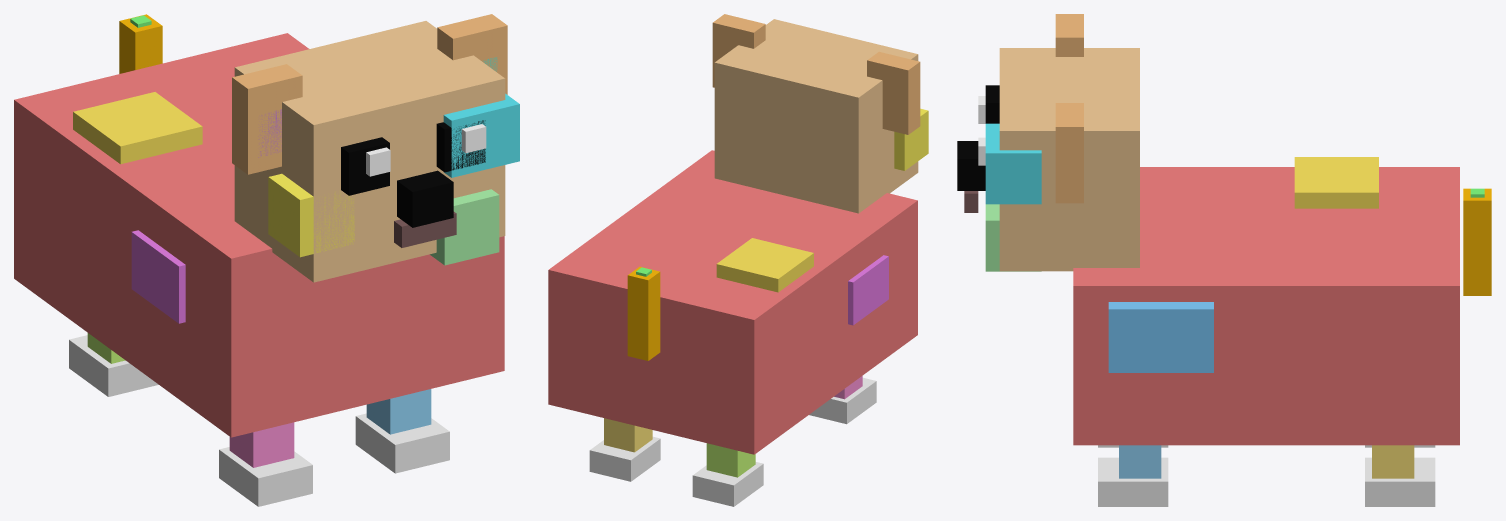
Rendered from pixel_colorful_dog.glb.
3 views of the same model, side by side, from view 1: azimuth 30°, elevation 25°; view 2: azimuth 150°, elevation 25°; view 3: azimuth 270°, elevation 25° (orthographic). The views are drawn at different scales.
Parts seen in each view (by area): view 1: body, head, body_patch2, ear_left, head_patch2, head_patch1, foot_fl, foot_fr, body_patch4, head_patch3, ear_right, nose (+9 smaller); view 2: body, head, body_patch2, ear_left, tail, foot_bl, foot_br, body_patch4, ear_right, foot_fr, head_patch2, leg_br (+1 smaller); view 3: body, head, body_patch1, body_patch2, head_patch1, tail, ear_right, foot_fl, foot_bl, leg_fl, leg_bl, nose (+2 smaller).
Boxes of the visible parts, x1=… form: body: x1=14, y1=33, x2=504, y2=437; head: x1=234, y1=21, x2=505, y2=282; body_patch2: x1=73, y1=92, x2=202, y2=164; ear_left: x1=232, y1=64, x2=302, y2=174; head_patch2: x1=268, y1=173, x2=354, y2=257; head_patch1: x1=443, y1=93, x2=519, y2=177; foot_fl: x1=355, y1=413, x2=449, y2=473; foot_fr: x1=219, y1=447, x2=312, y2=506; body_patch4: x1=131, y1=230, x2=185, y2=323; head_patch3: x1=430, y1=189, x2=499, y2=265; ear_right: x1=437, y1=14, x2=507, y2=94; nose: x1=397, y1=170, x2=453, y2=227; body: x1=548, y1=150, x2=917, y2=454; head: x1=714, y1=19, x2=918, y2=213; body_patch2: x1=716, y1=238, x2=813, y2=292; ear_left: x1=867, y1=51, x2=920, y2=134; tail: x1=627, y1=266, x2=660, y2=360; foot_bl: x1=589, y1=436, x2=660, y2=481; foot_br: x1=692, y1=462, x2=763, y2=506; body_patch4: x1=848, y1=255, x2=888, y2=325; ear_right: x1=712, y1=14, x2=765, y2=87; foot_fr: x1=809, y1=377, x2=876, y2=424; head_patch2: x1=894, y1=108, x2=928, y2=170; leg_br: x1=706, y1=443, x2=755, y2=477; body: x1=1073, y1=167, x2=1459, y2=445; head: x1=999, y1=48, x2=1139, y2=271; body_patch1: x1=1108, y1=302, x2=1213, y2=372; body_patch2: x1=1294, y1=157, x2=1378, y2=208; head_patch1: x1=985, y1=123, x2=1041, y2=204; tail: x1=1463, y1=188, x2=1491, y2=295; ear_right: x1=1055, y1=103, x2=1083, y2=203; foot_fl: x1=1098, y1=457, x2=1168, y2=506; foot_bl: x1=1365, y1=457, x2=1435, y2=506; leg_fl: x1=1119, y1=445, x2=1161, y2=478; leg_bl: x1=1372, y1=445, x2=1414, y2=478; nose: x1=957, y1=141, x2=985, y2=190.
Bounding box in the file's own units: 0.435 × 0.62 × 0.76.
